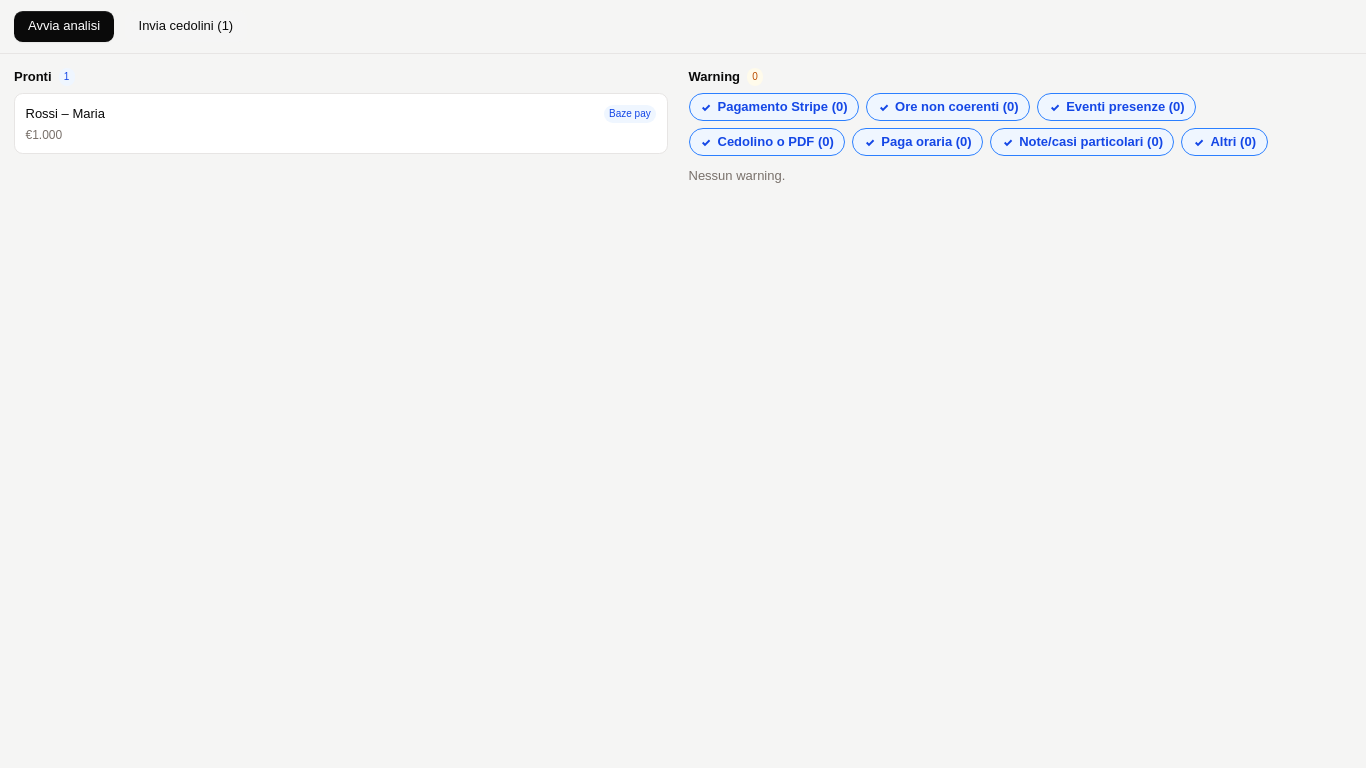
CedoliniControlliView — bulk send + recupero URL (U5) › dry run fallito (AE2): mostra l'errore e NON offre la conferma di invio del resto
Click the button with test id "cedolini-controlli-invia": (186, 26) [124,10,247,42]
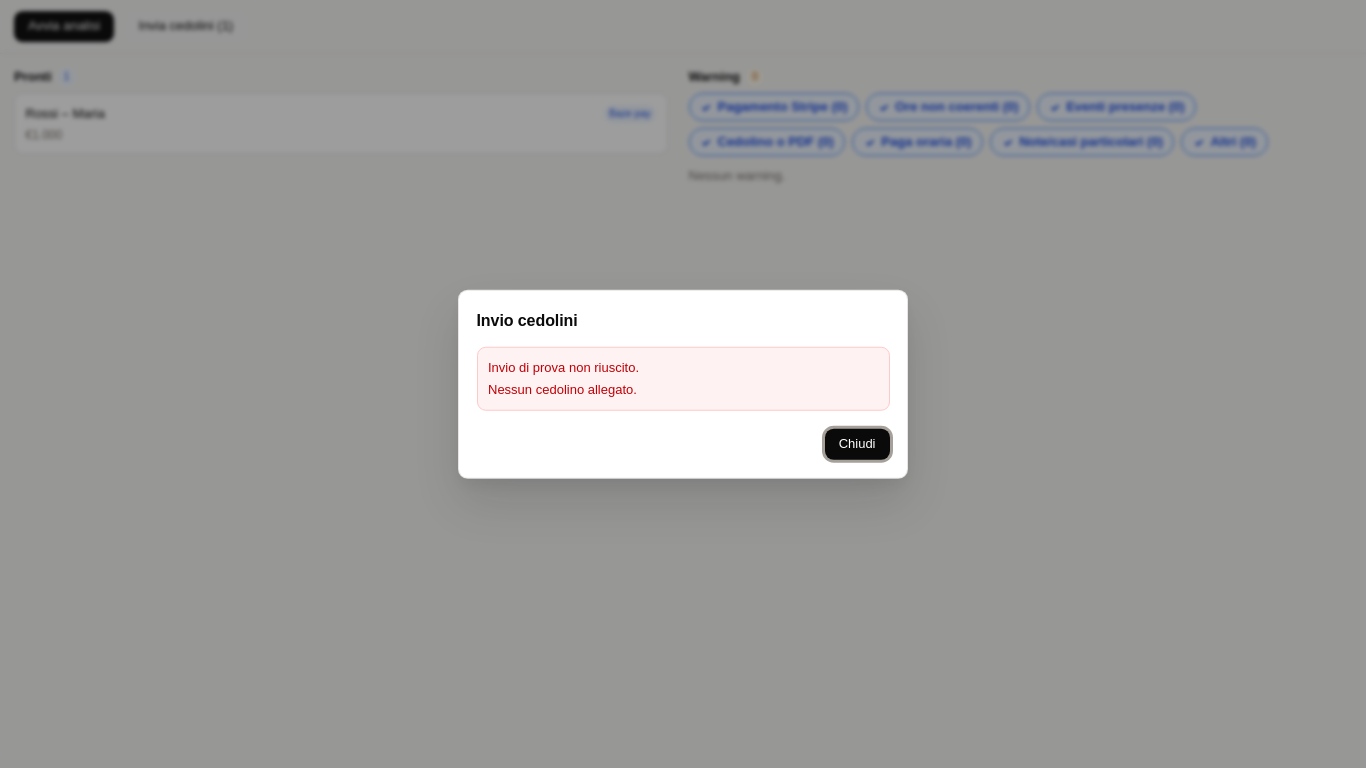
Check: the element with test id "cedolini-controlli-send-dry-run-failed" shows "Nessun cedolino allegato.", box [488,382,637,397]
